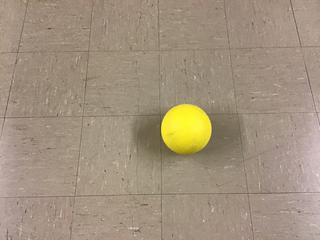power_cell: (154, 104, 218, 155)
